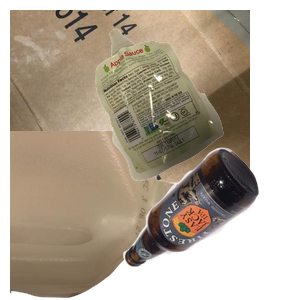cardboard: (10, 10, 250, 190)
glass: (120, 145, 300, 300)
plastic: (10, 131, 196, 300)
trash: (93, 26, 300, 200)
